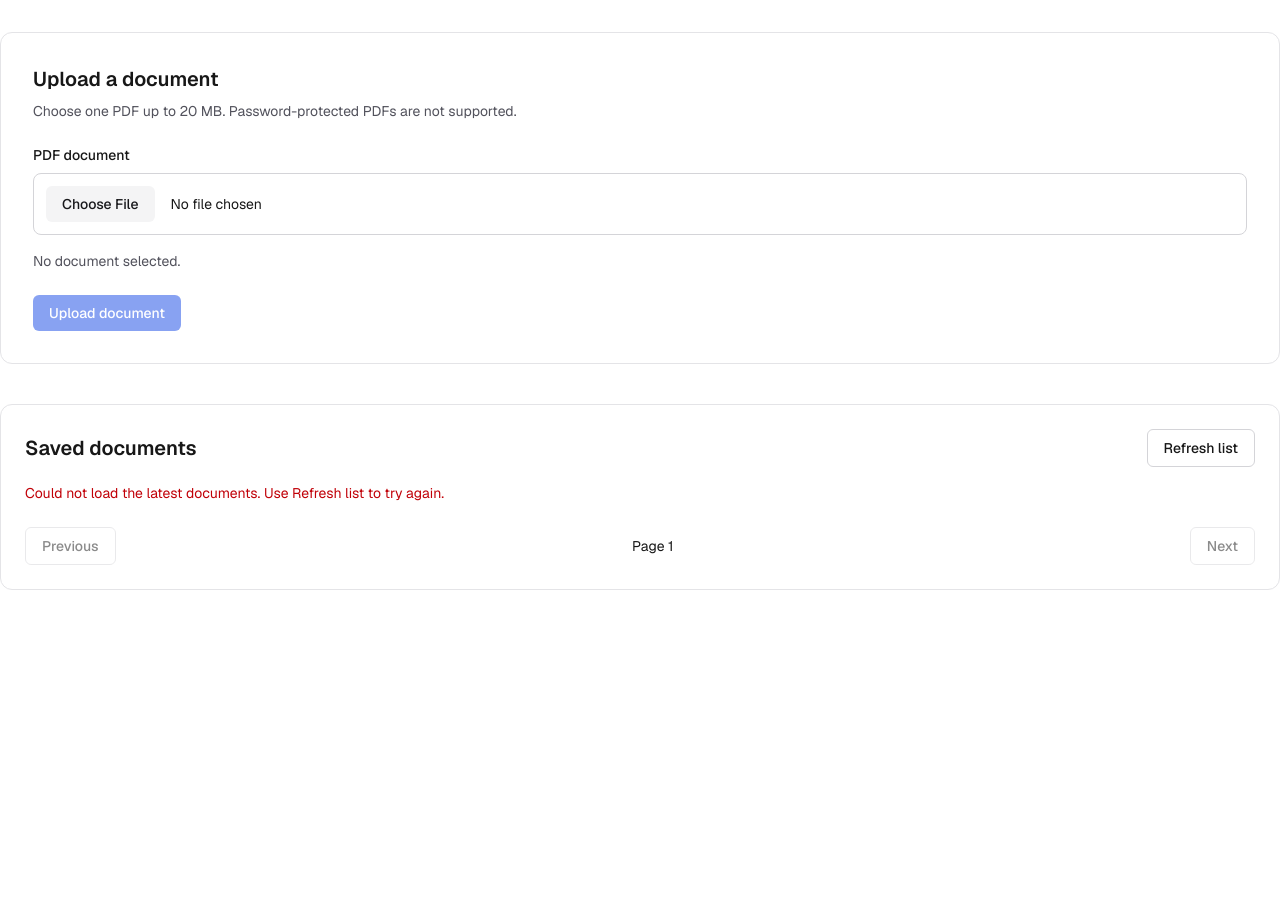
document workspace › lets users refresh after a list failure
The image size is (1280, 900).
Expected: the message "Could not load the latest documents. Use Refresh list to try again." is shown, [25,484,444,502]
Click the button "Refresh list" at [1201, 448], box [1147,429,1255,467]
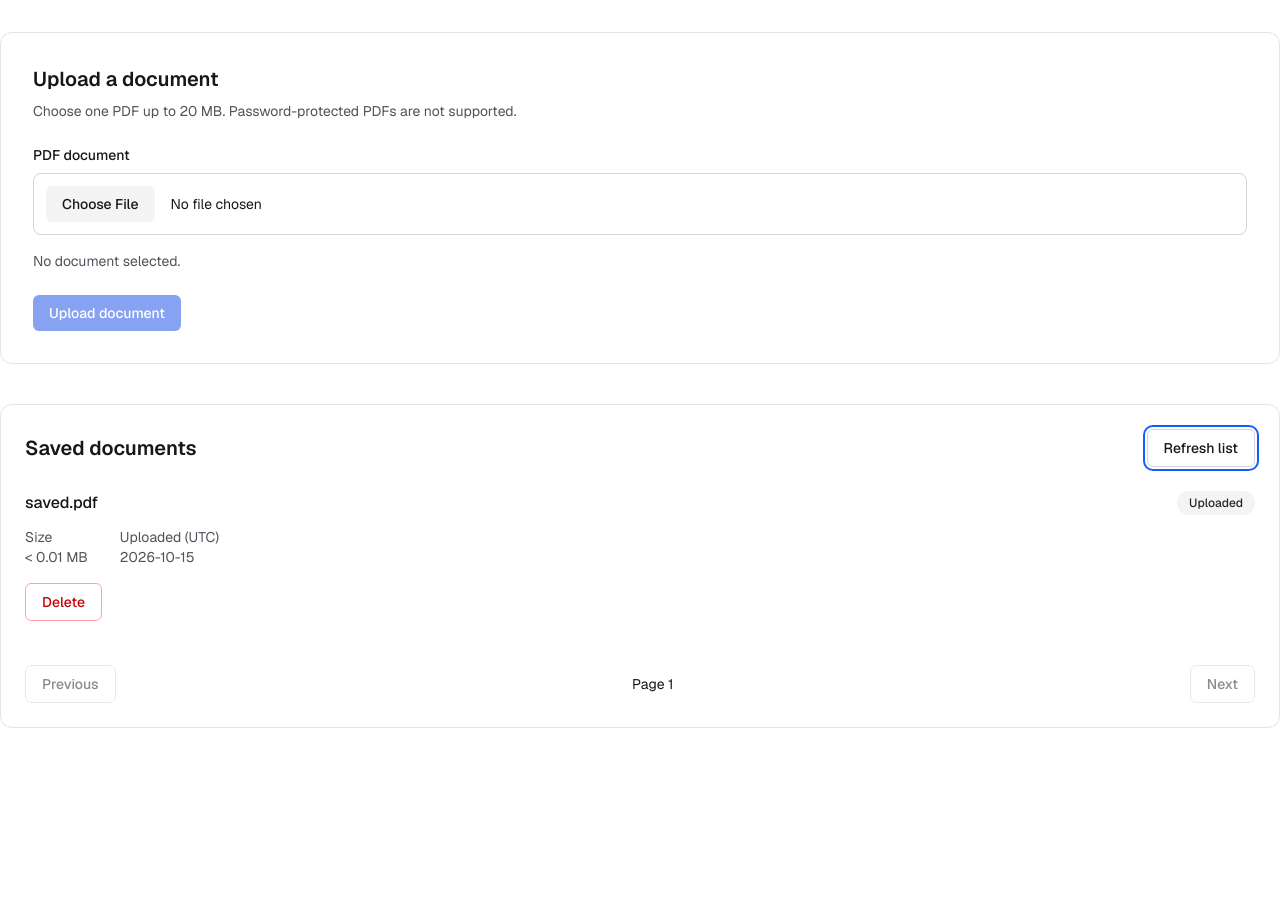
Expected: the heading "saved.pdf" is shown, [25,491,98,515]
